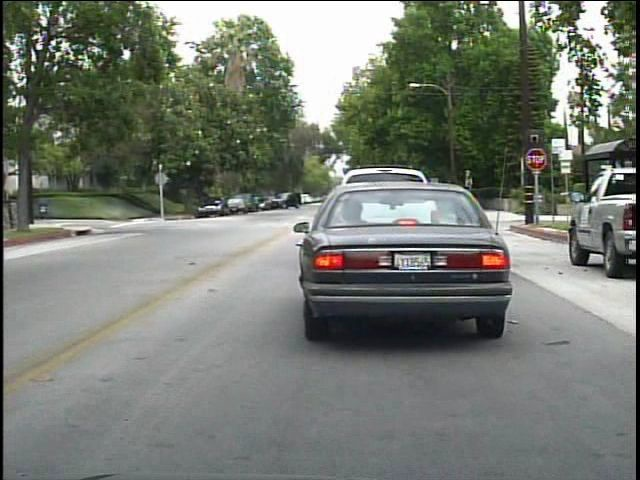person: (253, 189, 262, 212)
